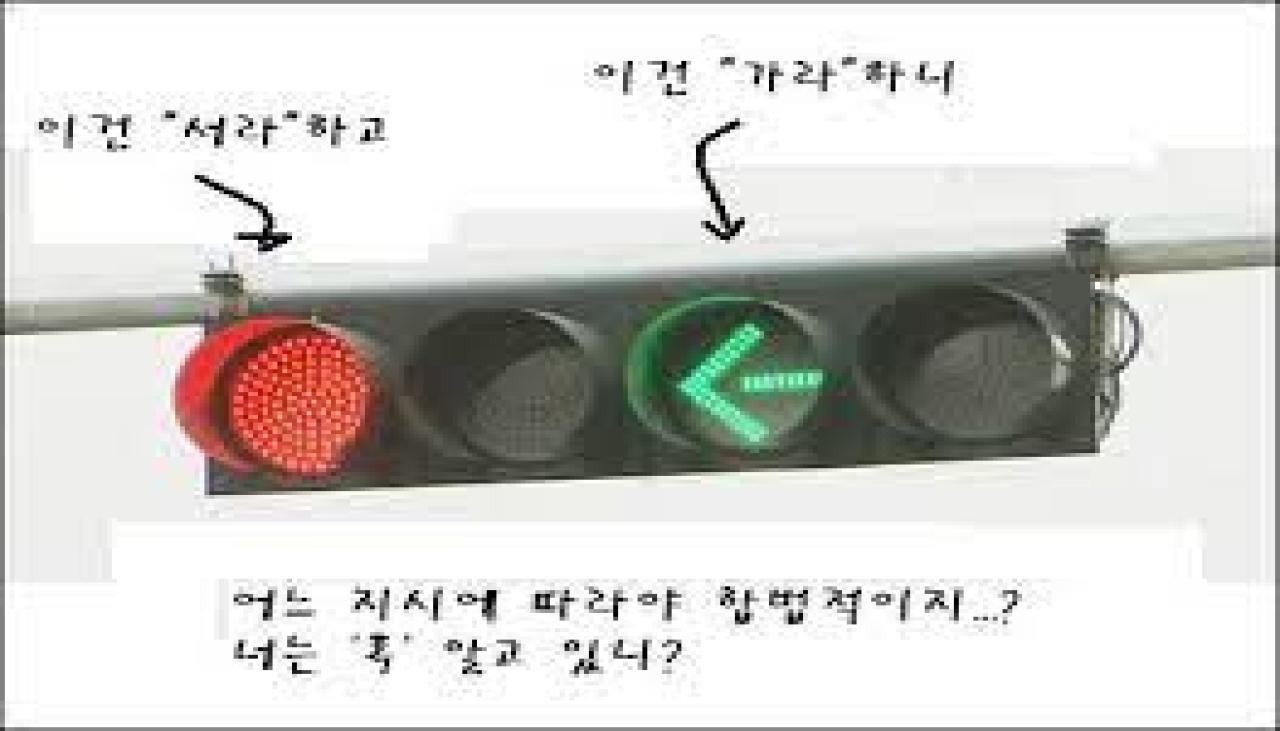Left turn: (618, 277, 862, 469)
Red Light: (166, 312, 397, 491)
